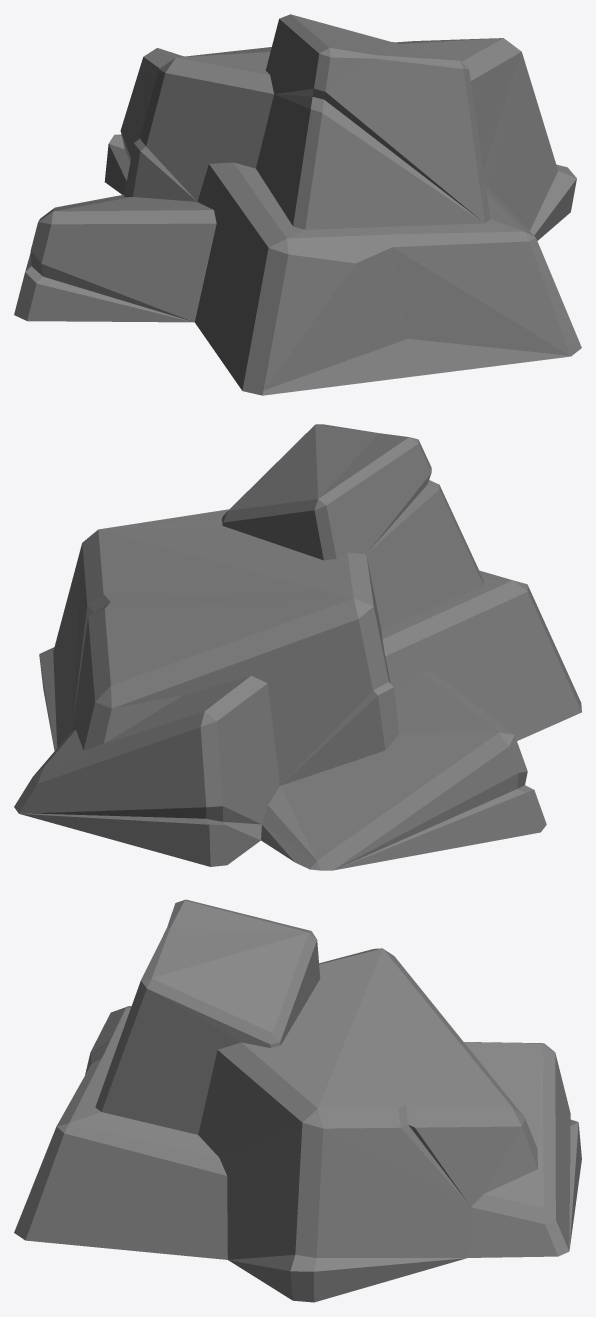
File: model_polytope_rock_large01.fbx
The picture shows the model from 3 angles, top to bottom: view 1: azimuth 30°, elevation 25°; view 2: azimuth 150°, elevation 25°; view 3: azimuth 270°, elevation 25°; orthographic projection. The views are drawn at different scales.
Visible parts, largest first — view 1: model_polyope_rock_large01; view 2: model_polyope_rock_large01; view 3: model_polyope_rock_large01.
Boxes of the visible parts, <box> form: model_polyope_rock_large01: <box>14,14,581,395</box>; model_polyope_rock_large01: <box>14,424,581,870</box>; model_polyope_rock_large01: <box>14,899,581,1302</box>.
Size of the model in its own units: 1556 by 781 by 1529.
